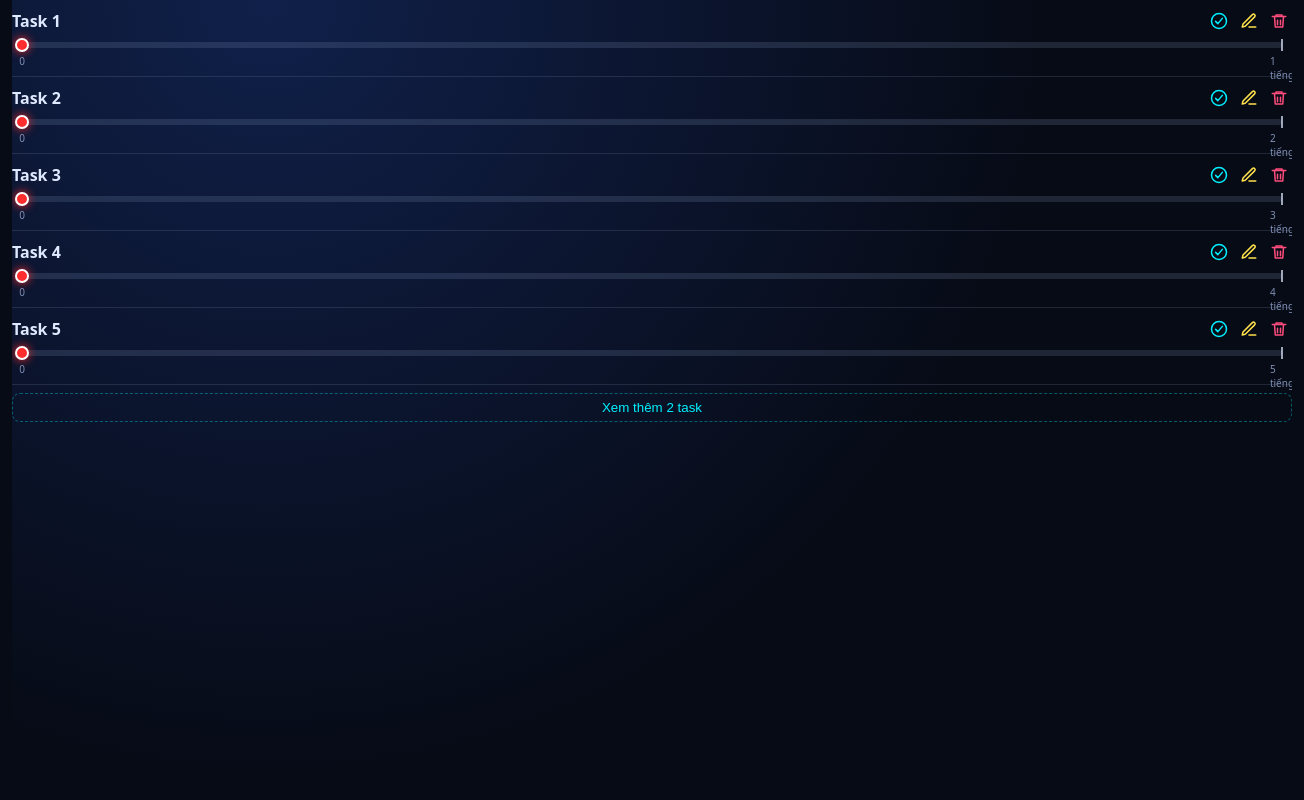
PushTaskList › click "Xem thêm" hiện toàn bộ danh sách
This screenshot has width=1304, height=800.
Click the button "Xem thêm 2 task" at coordinates (652, 408), box x1=12 y1=393 x2=1292 y2=422
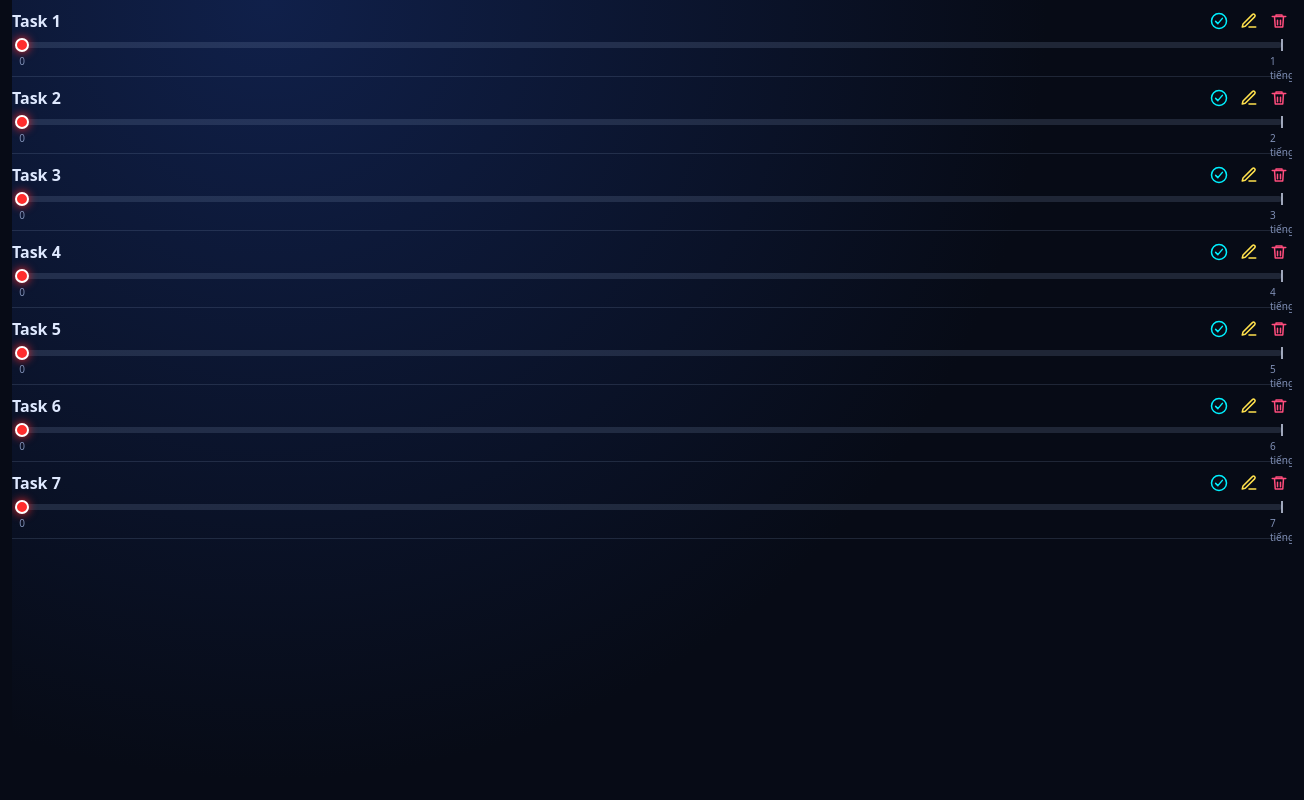
expect the element with test id "push-task-row-6" is shown: met, box x1=12 y1=385 x2=1292 y2=462
expect the element with test id "push-task-row-7" is shown: met, box x1=12 y1=462 x2=1292 y2=539
expect the button "Xem thêm" is gone: met
